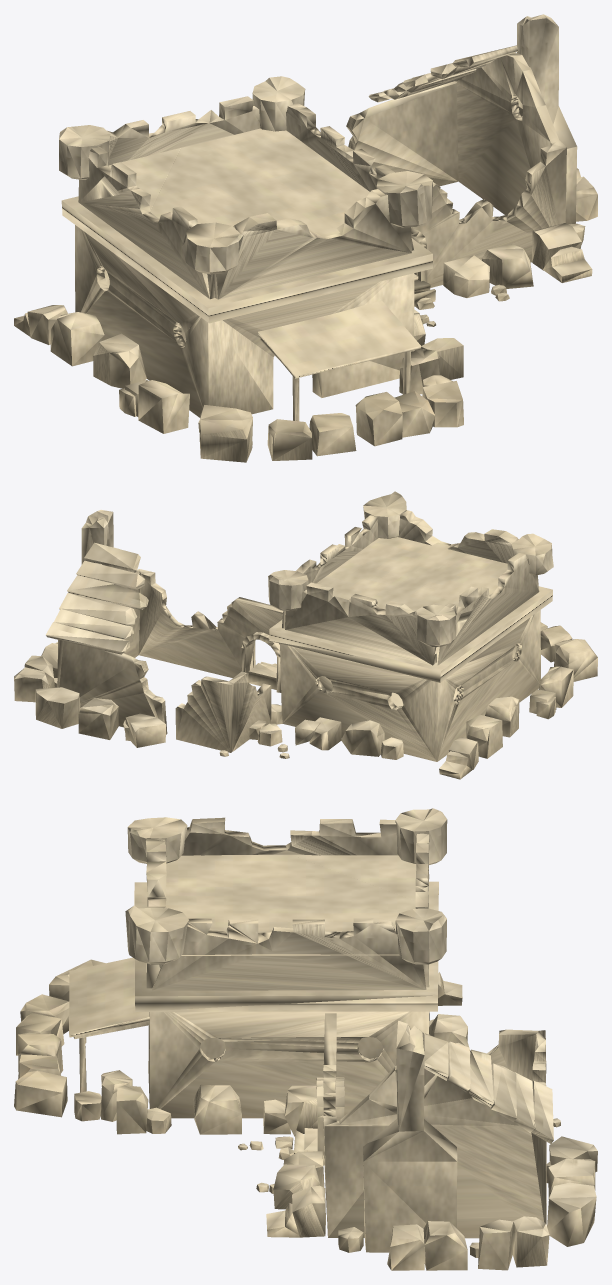
3 renders of one model, top to bottom at view 1: azimuth 30°, elevation 25°; view 2: azimuth 150°, elevation 25°; view 3: azimuth 270°, elevation 25°, orthographic. The views are drawn at different scales.
Parts seen in each view (by area): view 1: castle_d3.2; view 2: castle_d3.2; view 3: castle_d3.2.
Part boxes in pixels (x1,y1,x2,y2): castle_d3.2: [14, 14, 597, 462]; castle_d3.2: [14, 491, 597, 779]; castle_d3.2: [14, 808, 597, 1270].
Bounding box in the file's own units: 2.9 × 1.05 × 2.55.
Materials: 1 (1 with a texture image).
